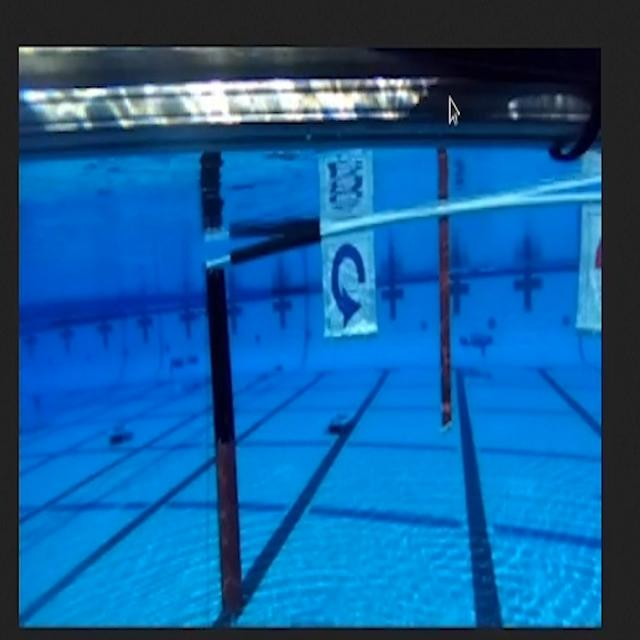Gate: (201, 171, 603, 628)
